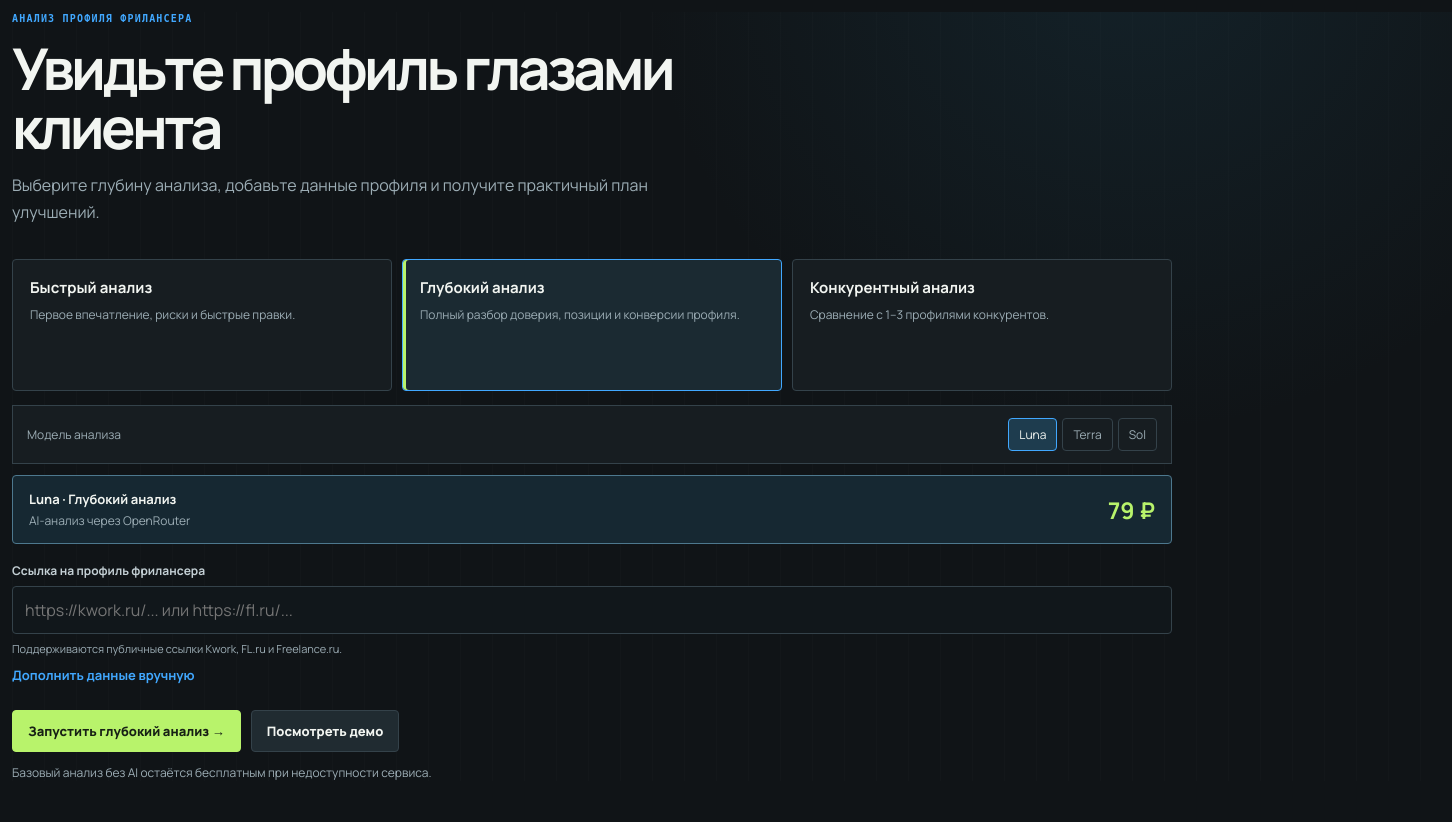
Test: ProfileForm › advertises the free Luna price only for a first quick Luna analysis
Expected: the text "Первый быстрый анализ Luna — бесплатно" is not shown
Click the button "Быстрый анализ Первое впечатление, риски и быстрые правки.": (202, 325) [12,259,392,391]
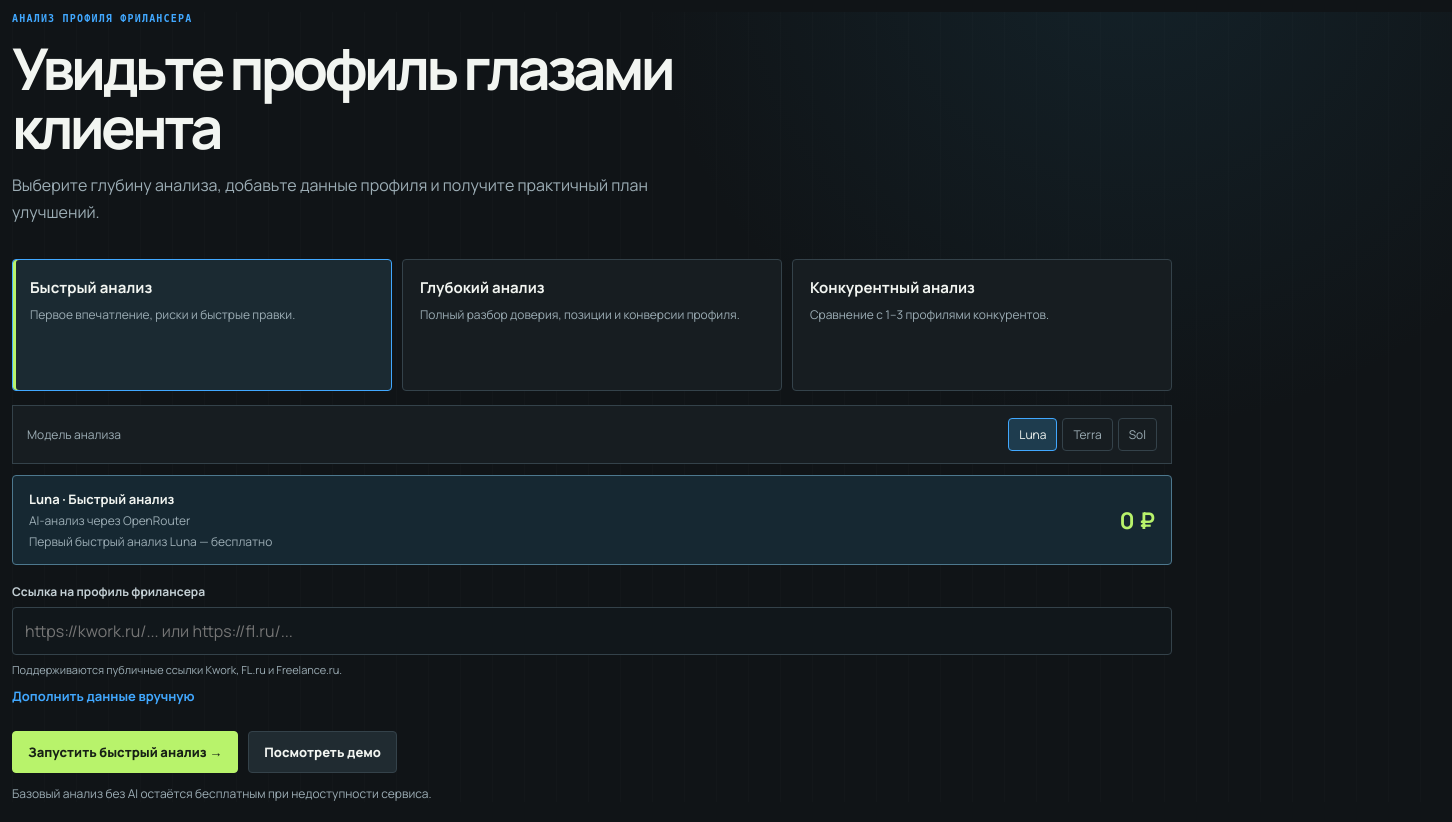
Expected: the text "Первый быстрый анализ Luna — бесплатно" is shown, [29,533,272,550]
Click the button "Terra": (1088, 435) [1062,418,1113,451]
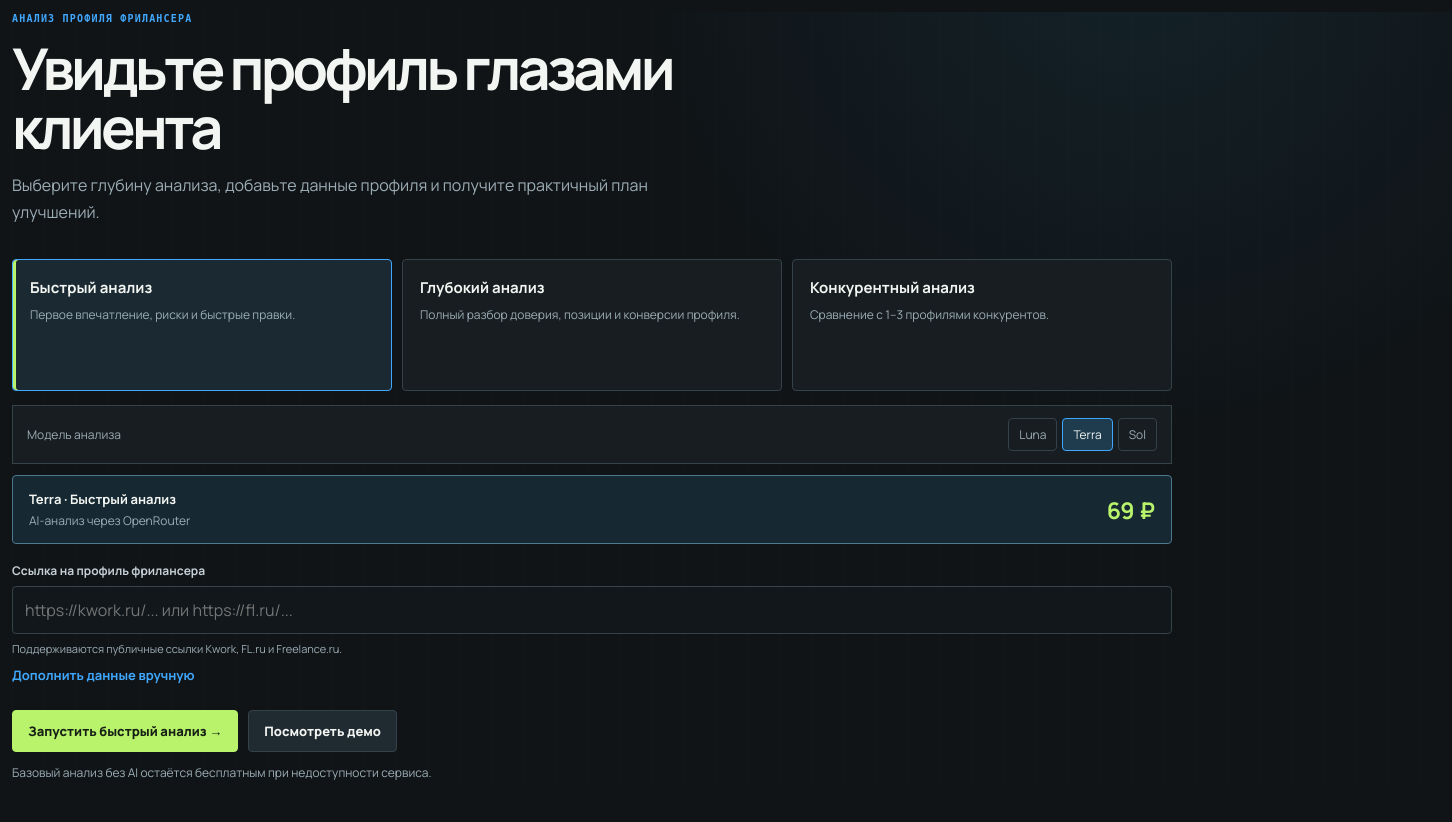
Expected: the text "Первый быстрый анализ Luna — бесплатно" is gone
